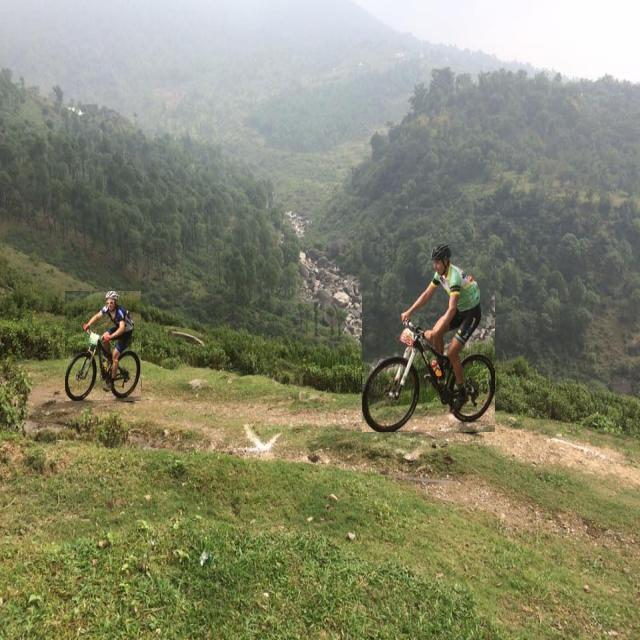bicycle: (362, 242, 495, 432), (65, 291, 141, 401)
